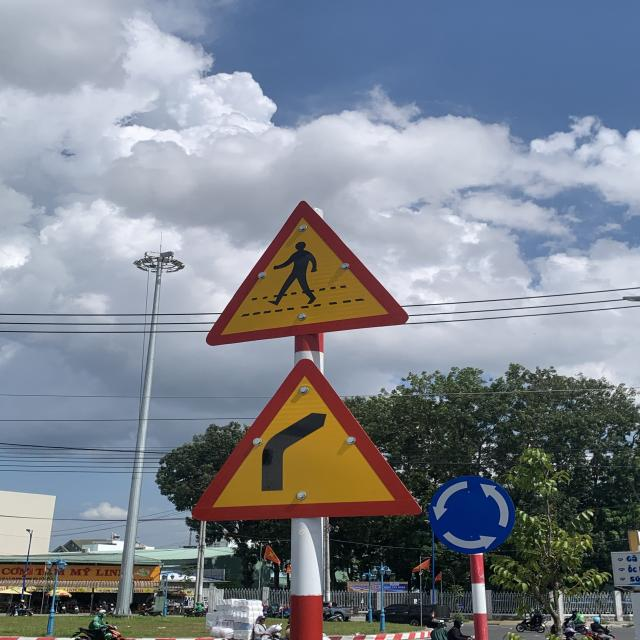Duong_Nguoi_Di_Bo_Cat_Ngang: (191, 360, 420, 524)
Duong_Nguoi_Di_Bo_Sang_Ngang: (203, 198, 414, 347)
Xe_Bus: (428, 472, 520, 558)
